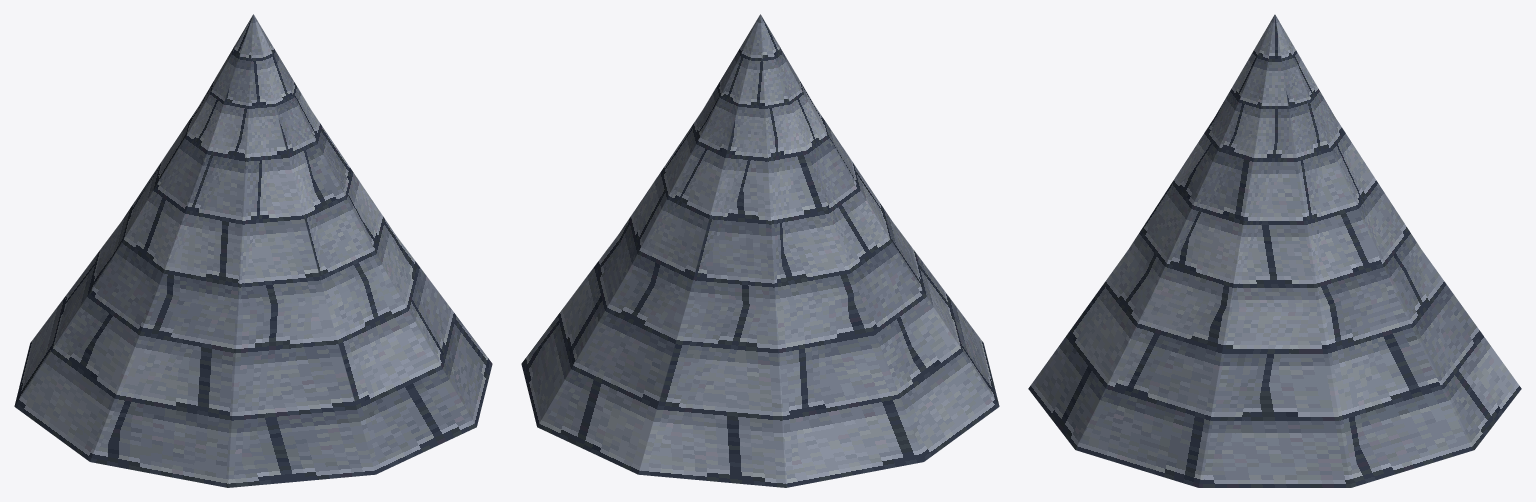
Rendered from telhado_05_igreja.glb.
3 views of the same model, side by side, from view 1: azimuth 30°, elevation 25°; view 2: azimuth 150°, elevation 25°; view 3: azimuth 270°, elevation 25° (orthographic).
Visible parts, largest first — view 1: telhado_05_igreja; view 2: telhado_05_igreja; view 3: telhado_05_igreja.
Part boxes in pixels (x1=…): telhado_05_igreja: x1=14, y1=14, x2=492, y2=487; telhado_05_igreja: x1=521, y1=14, x2=999, y2=487; telhado_05_igreja: x1=1028, y1=14, x2=1521, y2=487.
Bounding box in the file's own units: 3.52 × 3.1 × 3.7.
1 material, 1 textured.
